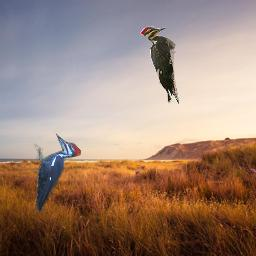Woodpecker: (34, 132, 81, 215), (140, 26, 180, 105)
